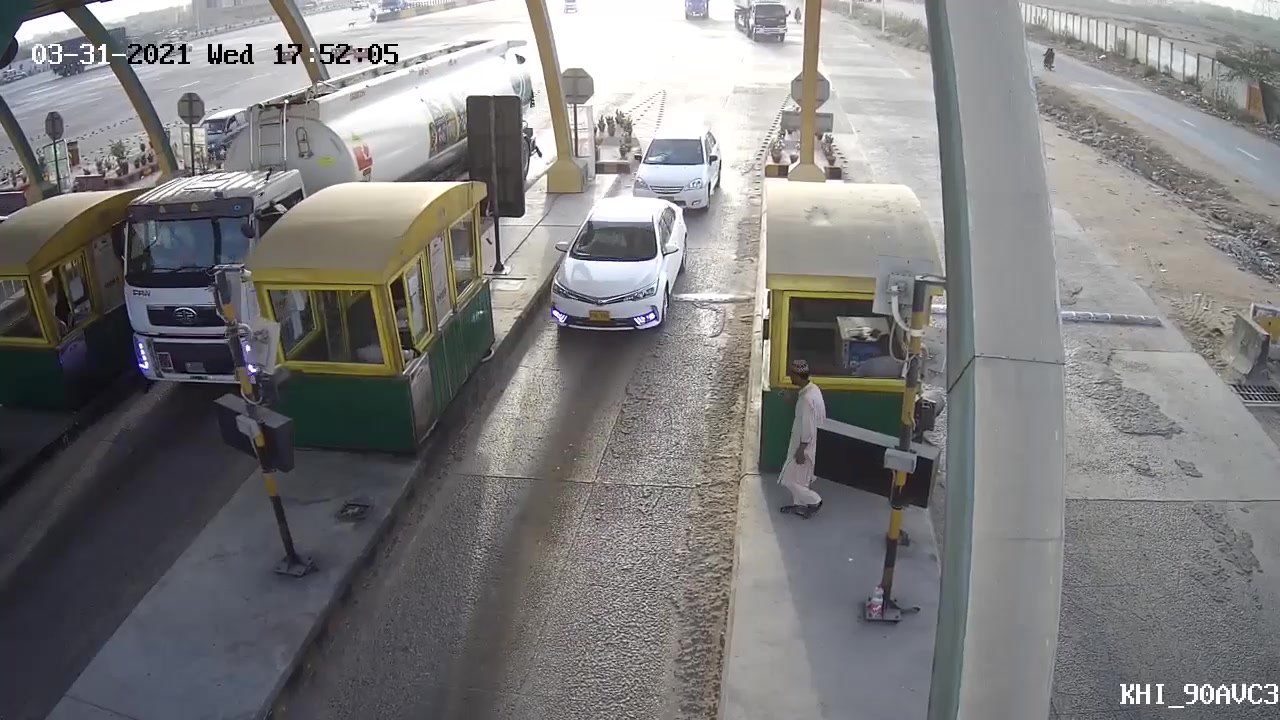F1: (538, 199, 694, 351), (631, 126, 724, 215)
